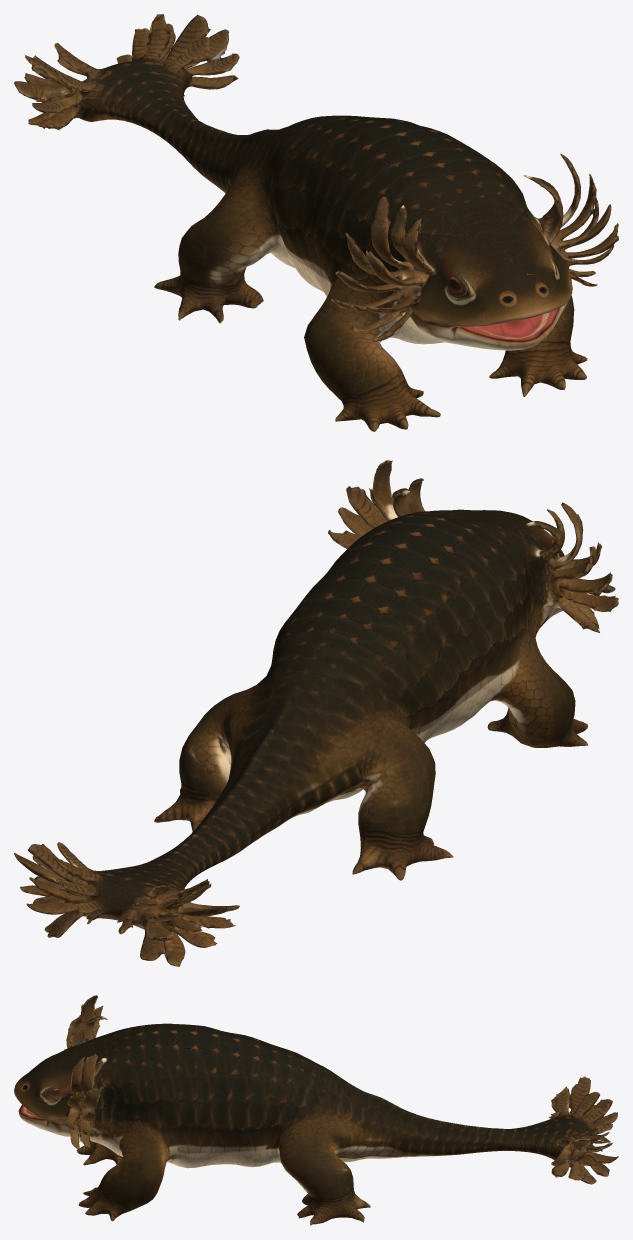
File: mirejaw_retex_r2.glb
3 renders of one model, top to bottom at view 1: azimuth 30°, elevation 25°; view 2: azimuth 150°, elevation 25°; view 3: azimuth 270°, elevation 25°, orthographic. The views are drawn at different scales.
Bounding box in the file's own units: 0.7565 × 0.5773 × 2.
1 material, 1 textured.
